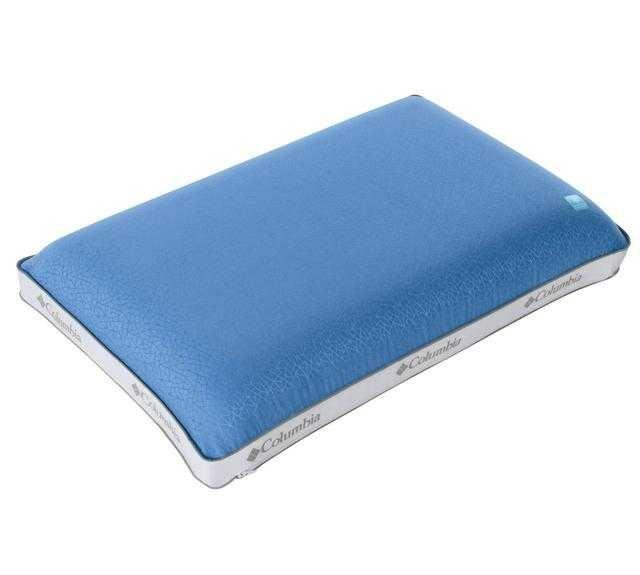pillow: (16, 92, 630, 488)
